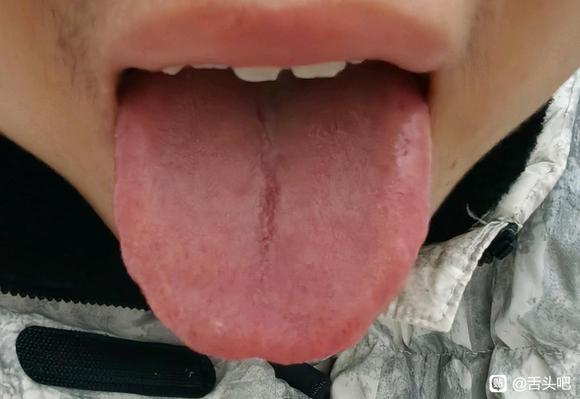baitaishe: (114, 66, 432, 363)
hongshe: (114, 66, 432, 363)
liewenshe: (252, 92, 283, 271)
